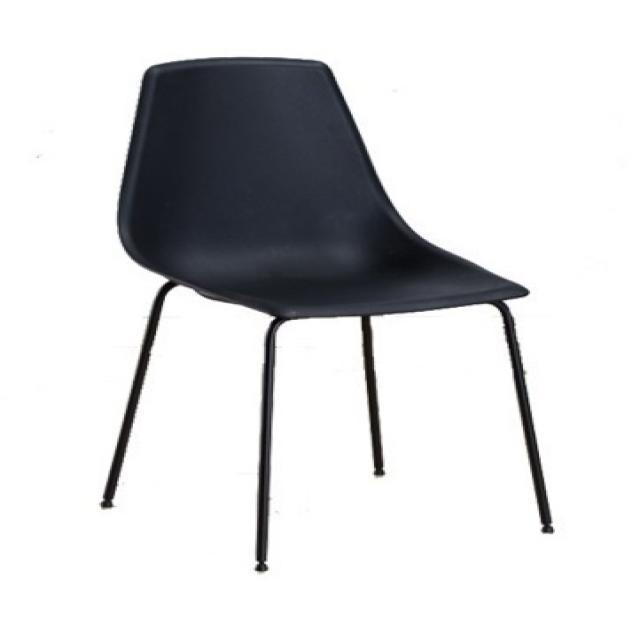chair: (94, 53, 558, 579)
